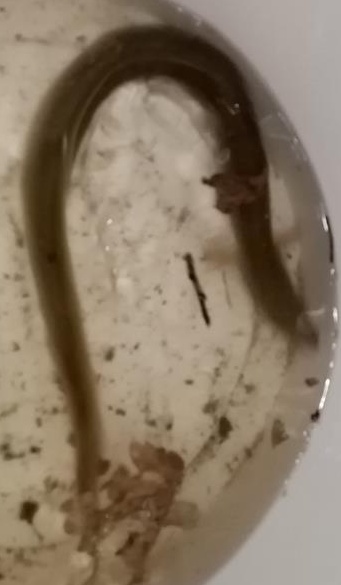Anguilla anguilla: (20, 20, 321, 565)
